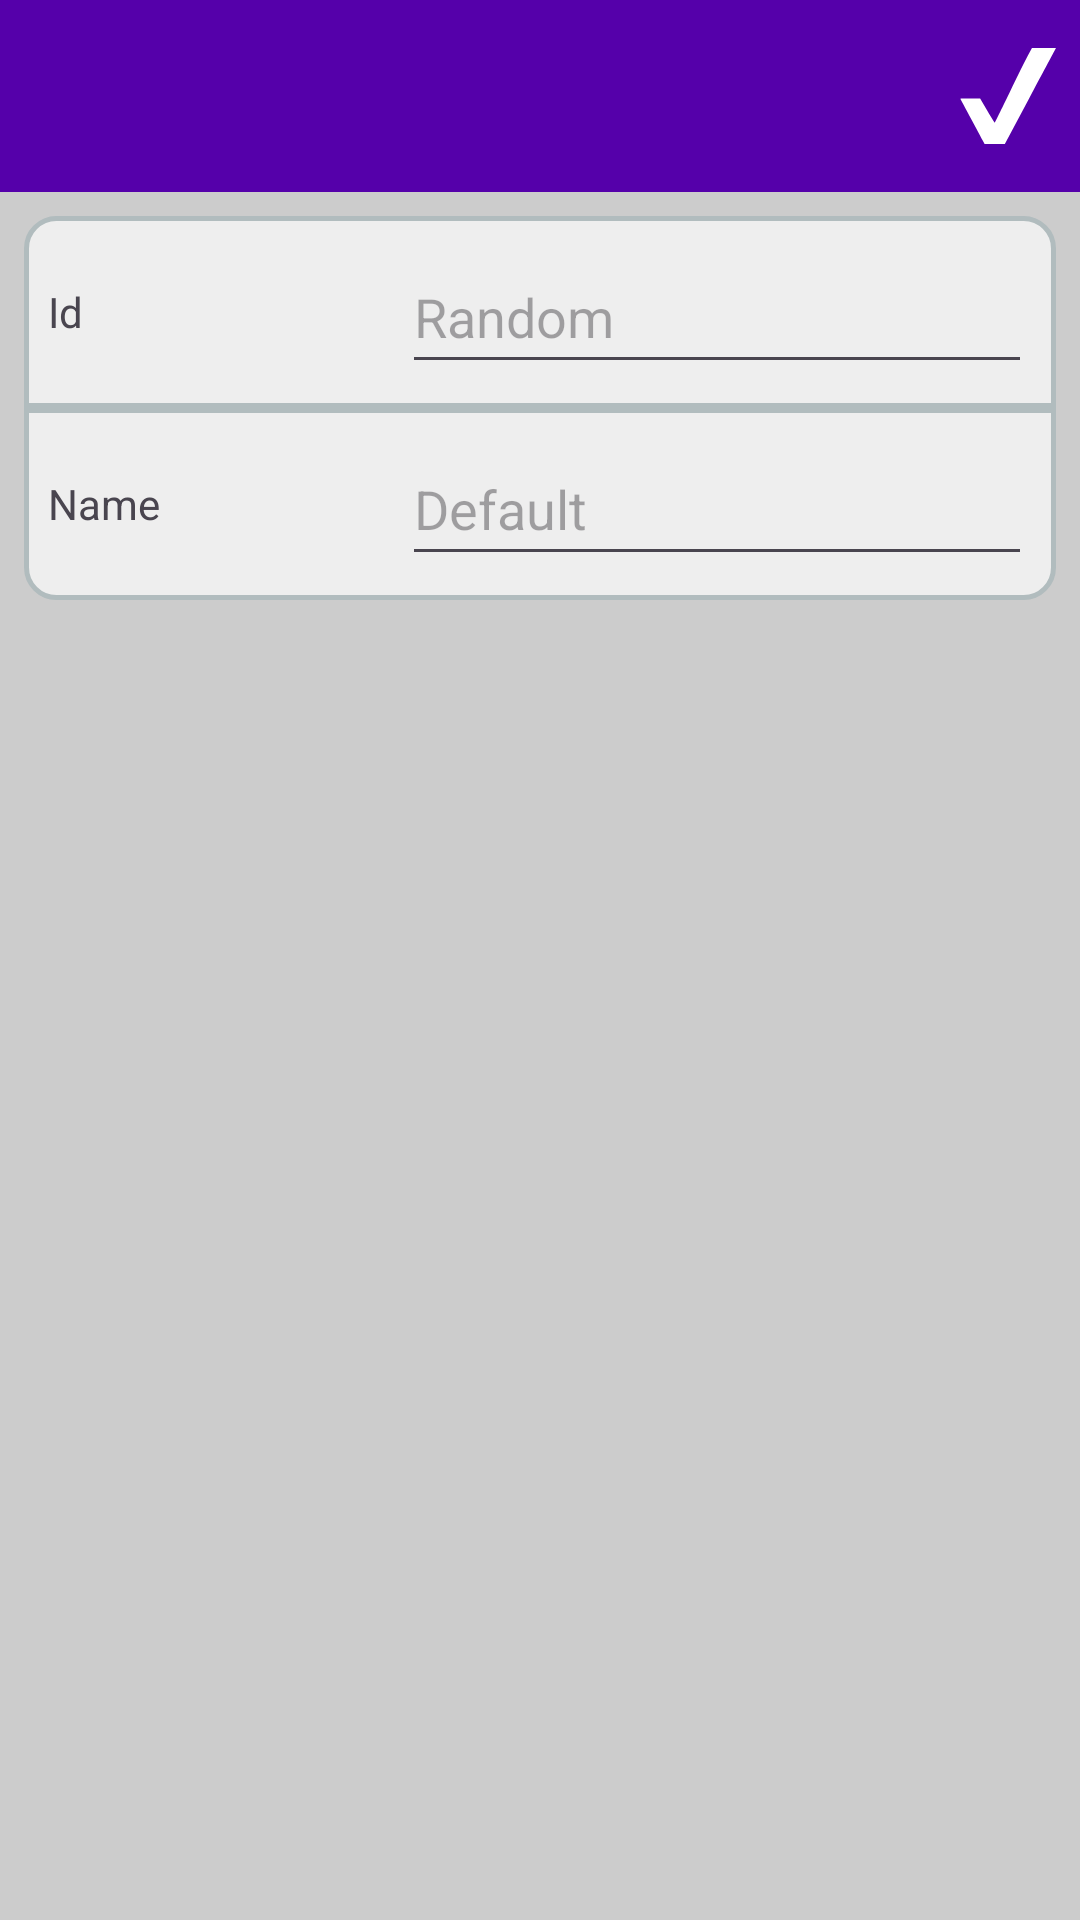

Where to tap for icons on this 1080w x 1920h app screen, as [x,y]:
Confirm: [1008,96]
